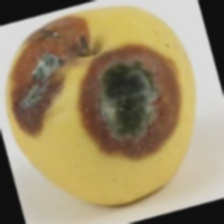apple: (14, 42, 213, 176)
